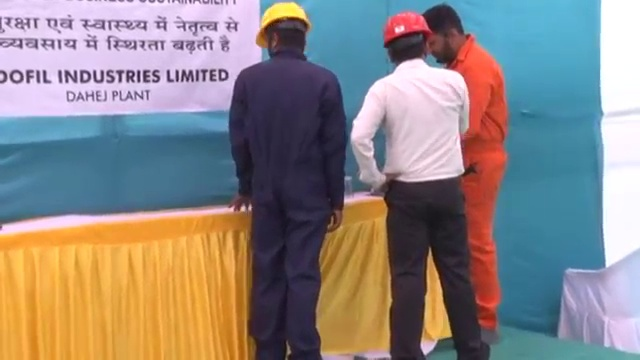helmet: (253, 1, 314, 49), (381, 12, 434, 46)
helmet_off: (425, 4, 472, 61)
helmet_on: (252, 1, 314, 64), (380, 13, 434, 65)
person: (350, 12, 471, 360), (229, 1, 346, 360), (422, 4, 509, 345)
